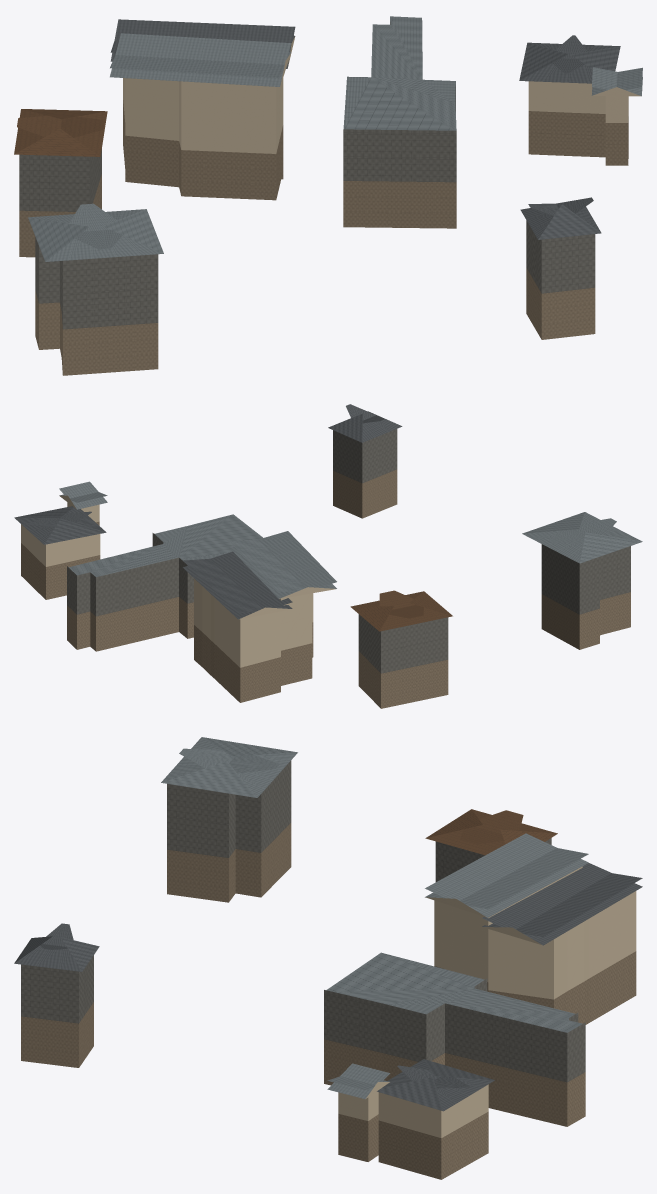
Rendered from bld_c41_-47_459.gltf.
3 renders of one model, top to bottom at view 1: azimuth 30°, elevation 25°; view 2: azimuth 150°, elevation 25°; view 3: azimuth 270°, elevation 25°, orthographic. The views are drawn at different scales.
Visible parts, largest first — view 1: bld_c41_-47_459; view 2: bld_c41_-47_459; view 3: bld_c41_-47_459.
Boxes of the visible parts, x1,y1,x2,y2 form: bld_c41_-47_459: (14, 16, 642, 375); bld_c41_-47_459: (14, 404, 642, 708); bld_c41_-47_459: (14, 737, 642, 1179).
Bounding box in the file's own units: 80.83 × 15.7 × 65.3.
8 materials, 8 textured.
